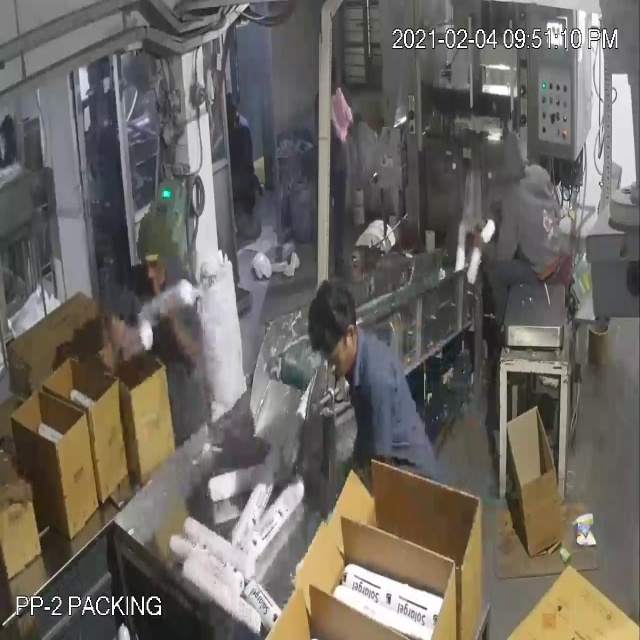Sin_guantes: (154, 285, 209, 376), (1, 466, 38, 510)
